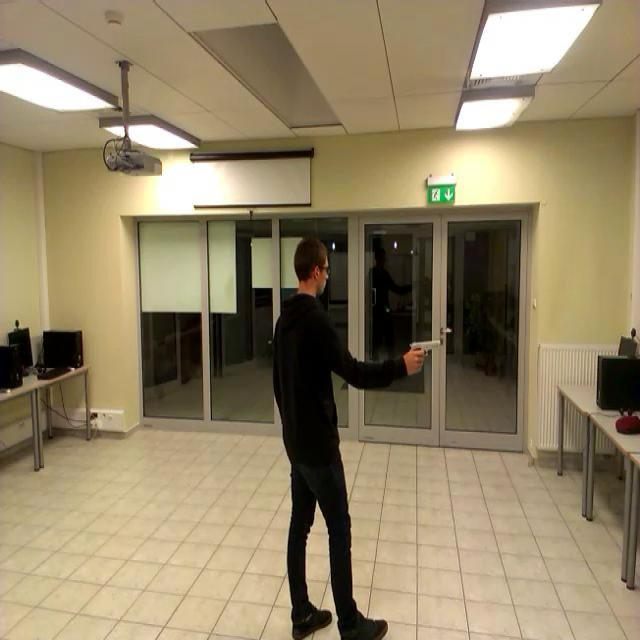weapon: (406, 340, 443, 378)
